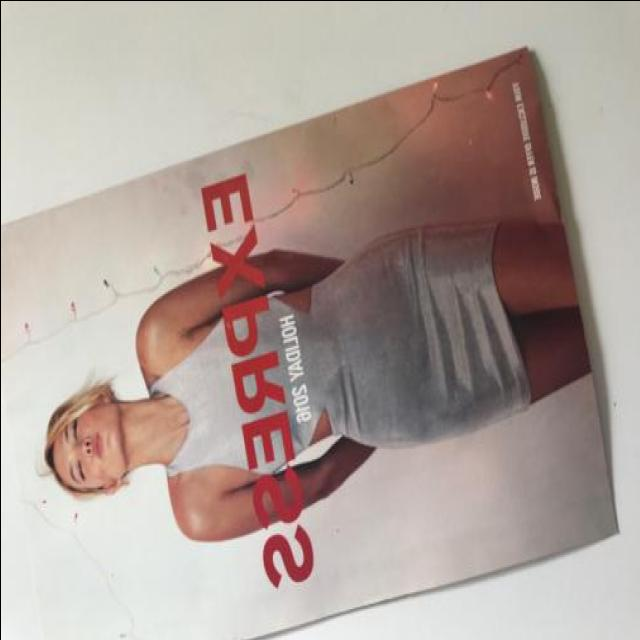kertas: (0, 46, 620, 640)
